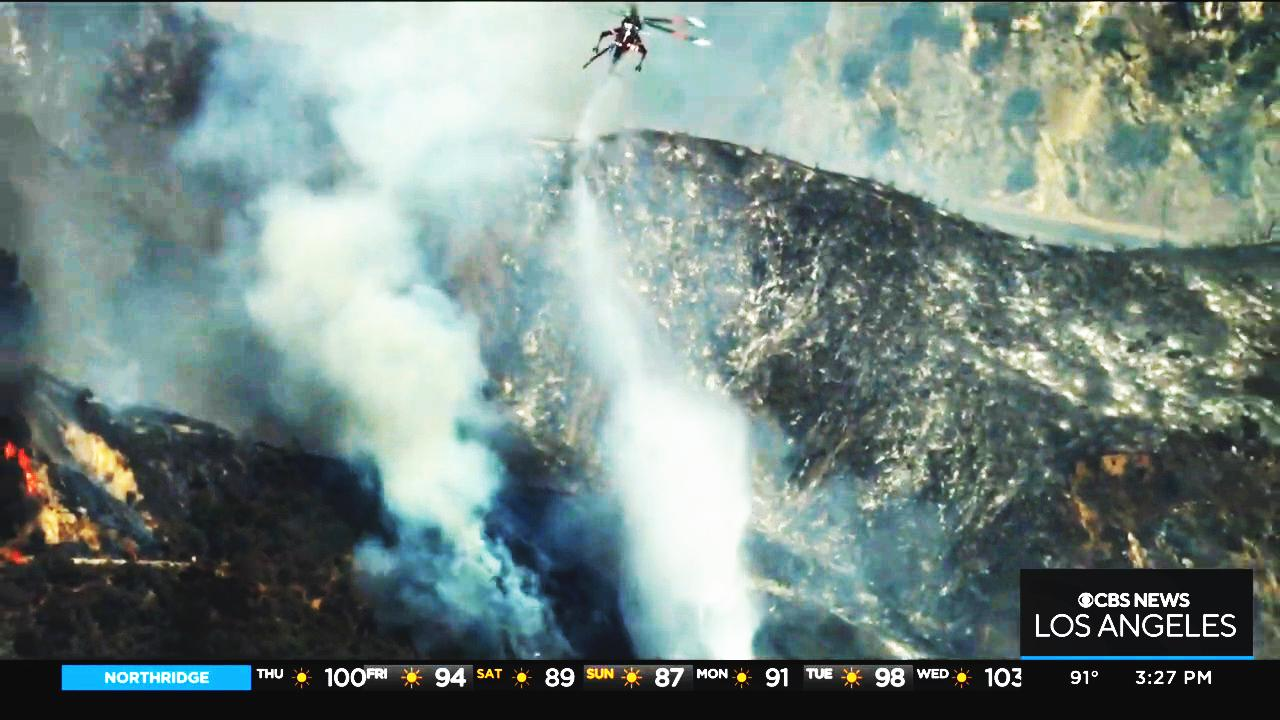smoke: (257, 199, 467, 448), (350, 25, 537, 174), (379, 435, 470, 524)
